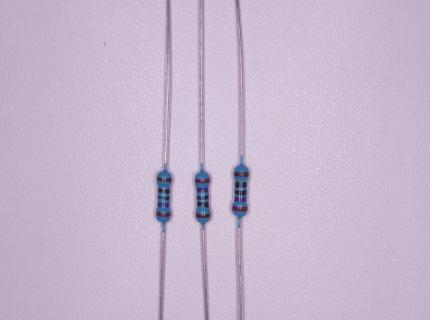Black band: (234, 182, 247, 188), (197, 202, 208, 208), (235, 190, 247, 195), (197, 195, 209, 200), (158, 189, 169, 194), (158, 196, 169, 201)
Brown band: (234, 171, 249, 177), (157, 177, 171, 182), (196, 213, 210, 218)
Red band: (232, 206, 247, 211), (156, 212, 170, 217), (195, 179, 209, 182)
Violet band: (235, 196, 247, 202), (158, 202, 169, 207), (197, 188, 208, 193)
